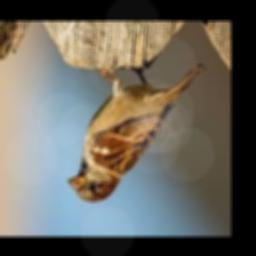Sparrow: (67, 64, 206, 202)
